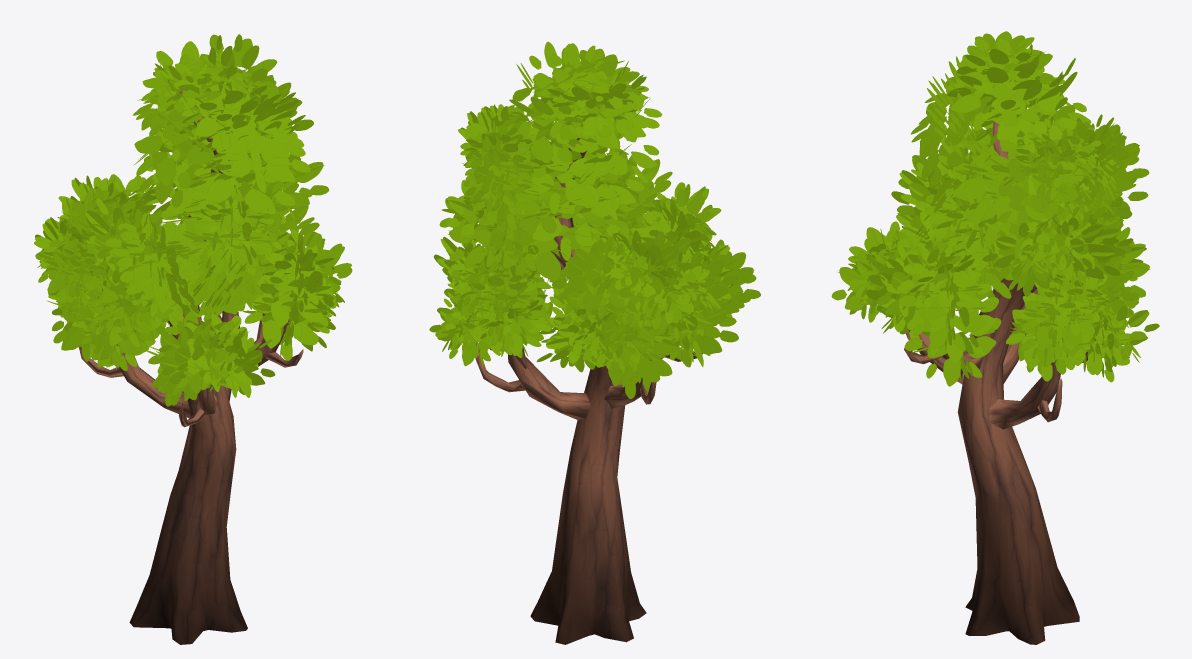
Rendered from CommonTree_2.glb.
The picture shows the model from 3 angles, left to right: view 1: azimuth 30°, elevation 25°; view 2: azimuth 150°, elevation 25°; view 3: azimuth 270°, elevation 25°; orthographic projection. The views are drawn at different scales.
Size of the model in its own units: 4.46 by 7.64 by 4.28.
2 materials, 2 textured.
